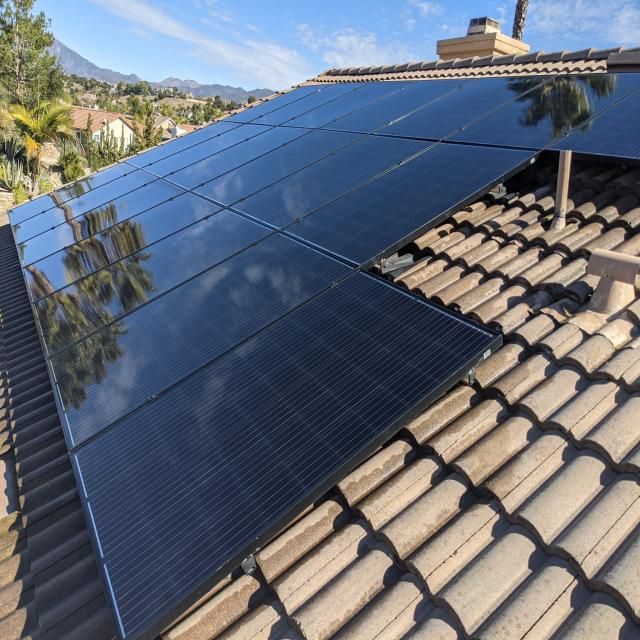clean-solar-panel: (10, 74, 640, 638)
